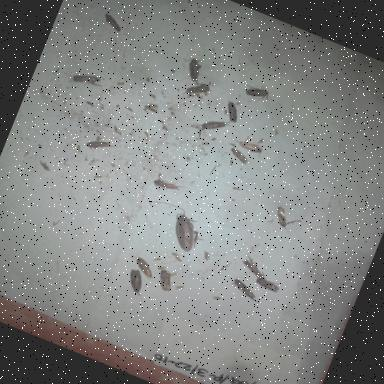pbw: (230, 249, 274, 284), (144, 168, 192, 200), (195, 110, 236, 146), (223, 274, 266, 308), (176, 52, 214, 88), (122, 252, 162, 286), (79, 129, 121, 161), (119, 266, 152, 300), (182, 74, 218, 104), (148, 263, 180, 295), (267, 202, 300, 233), (69, 66, 105, 94), (230, 132, 266, 160), (97, 10, 131, 38), (242, 80, 274, 108), (250, 273, 286, 297), (222, 144, 256, 168), (218, 97, 245, 126)
